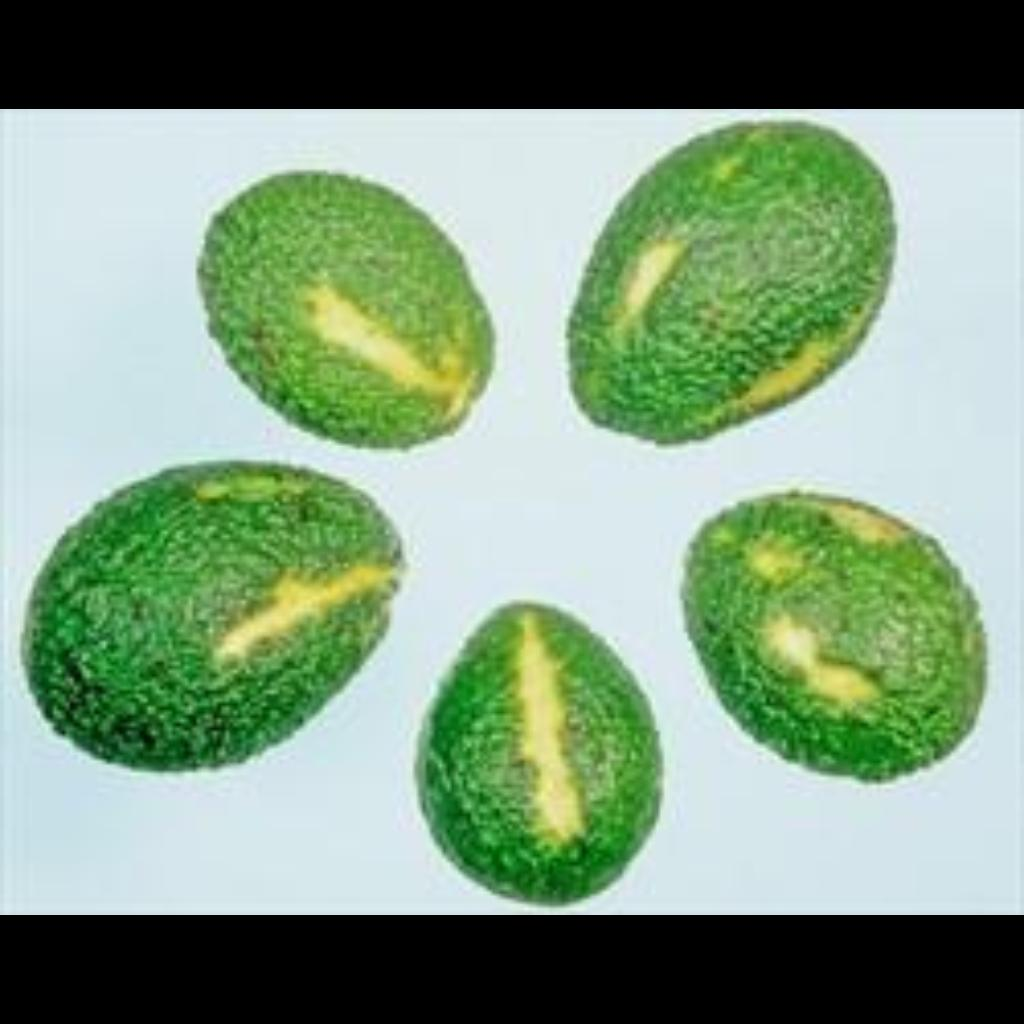sunblotch: (624, 429, 994, 781), (532, 164, 914, 448), (60, 447, 350, 795), (172, 126, 484, 440), (426, 580, 660, 884)
